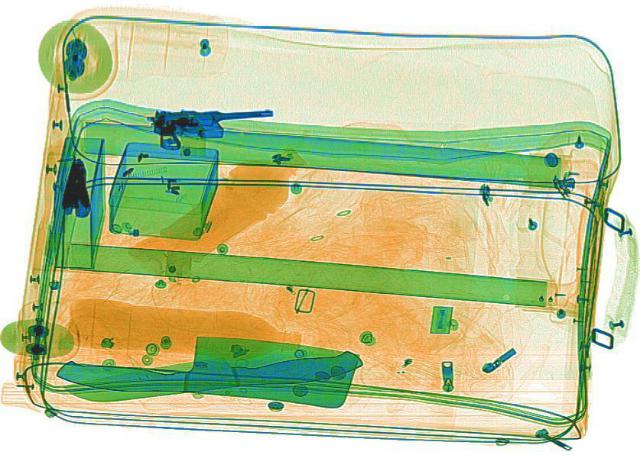Gun: (146, 103, 274, 148), (56, 158, 98, 217)
Knife: (55, 322, 359, 408), (58, 344, 364, 403)
